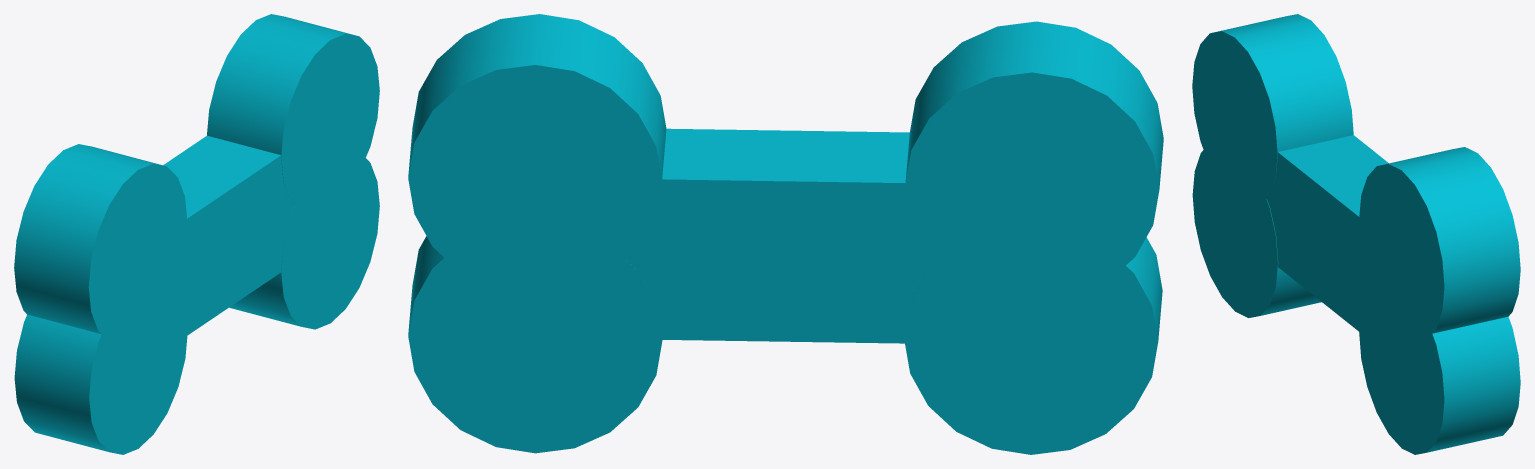
The model's file is Park_Koekje_blauw_animation.fbx.
3 renders of one model, left to right at view 1: azimuth 30°, elevation 25°; view 2: azimuth 150°, elevation 25°; view 3: azimuth 270°, elevation 25°, orthographic. The views are drawn at different scales.
Visible parts, largest first — view 1: pCylinder6; view 2: pCylinder6; view 3: pCylinder6.
Boxes of the visible parts, x1=… form: pCylinder6: x1=14, y1=14, x2=379, y2=454; pCylinder6: x1=408, y1=14, x2=1163, y2=454; pCylinder6: x1=1192, y1=14, x2=1520, y2=454.
Size of the model in its own units: 3.46 by 2.06 by 2.21.
